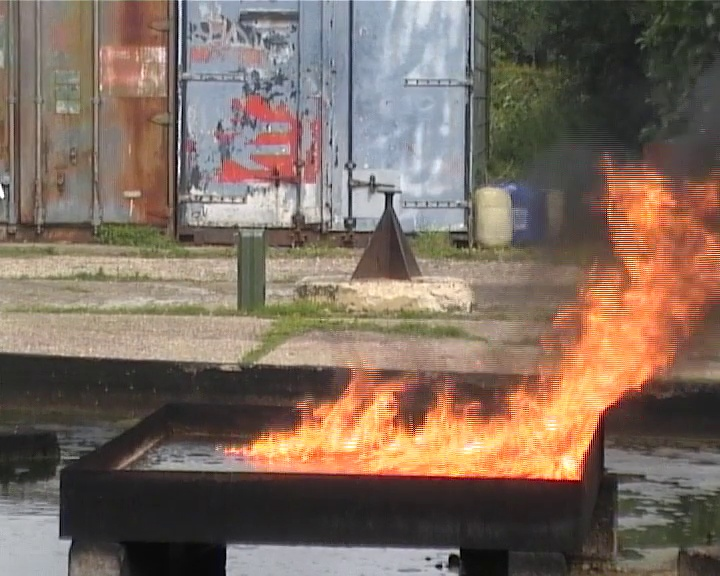fire: (240, 166, 720, 478)
